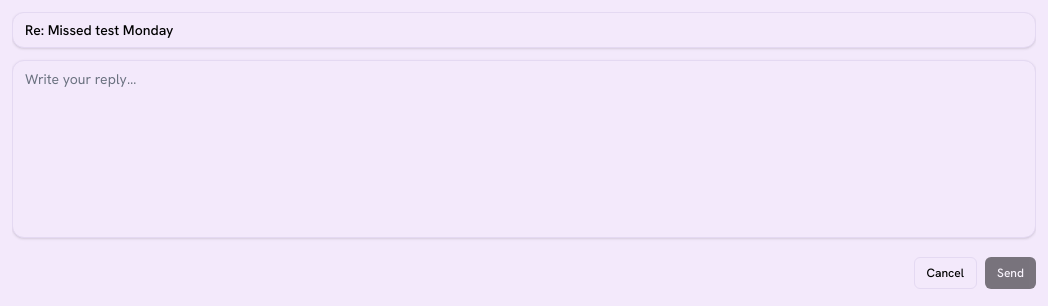
Test case: ComposeForm › refuses to send until both fields have something in them
The width and height of the screenshot is (1048, 306).
Expected: the button "Send" is disabled, [985,257,1036,289]
Type "Wednesday works." into the text box with placeholder "Write your reply…" at coordinates (524, 149), box [12,60,1036,238]
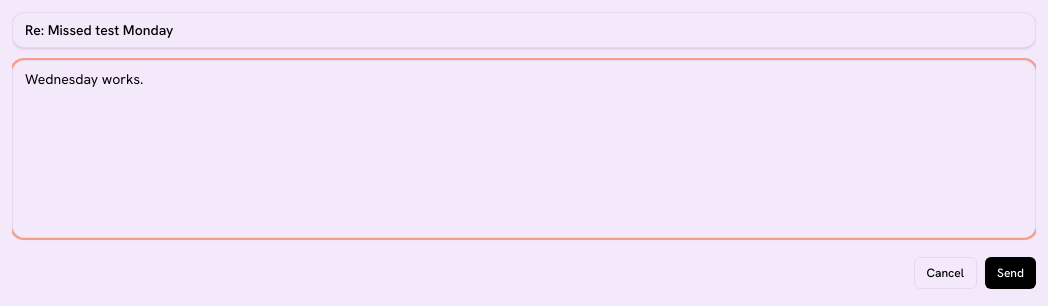
Now the button "Send" is enabled, box [985,257,1036,289]
